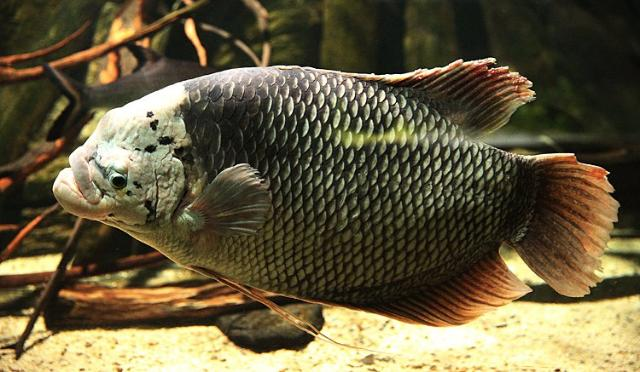Mulut: (31, 130, 115, 224)
Sirip Anal: (341, 248, 555, 336)
Sirip Dada: (158, 151, 294, 255)
Sirip Ekor: (510, 134, 628, 320)
Sirip Punggung: (396, 39, 548, 150)
